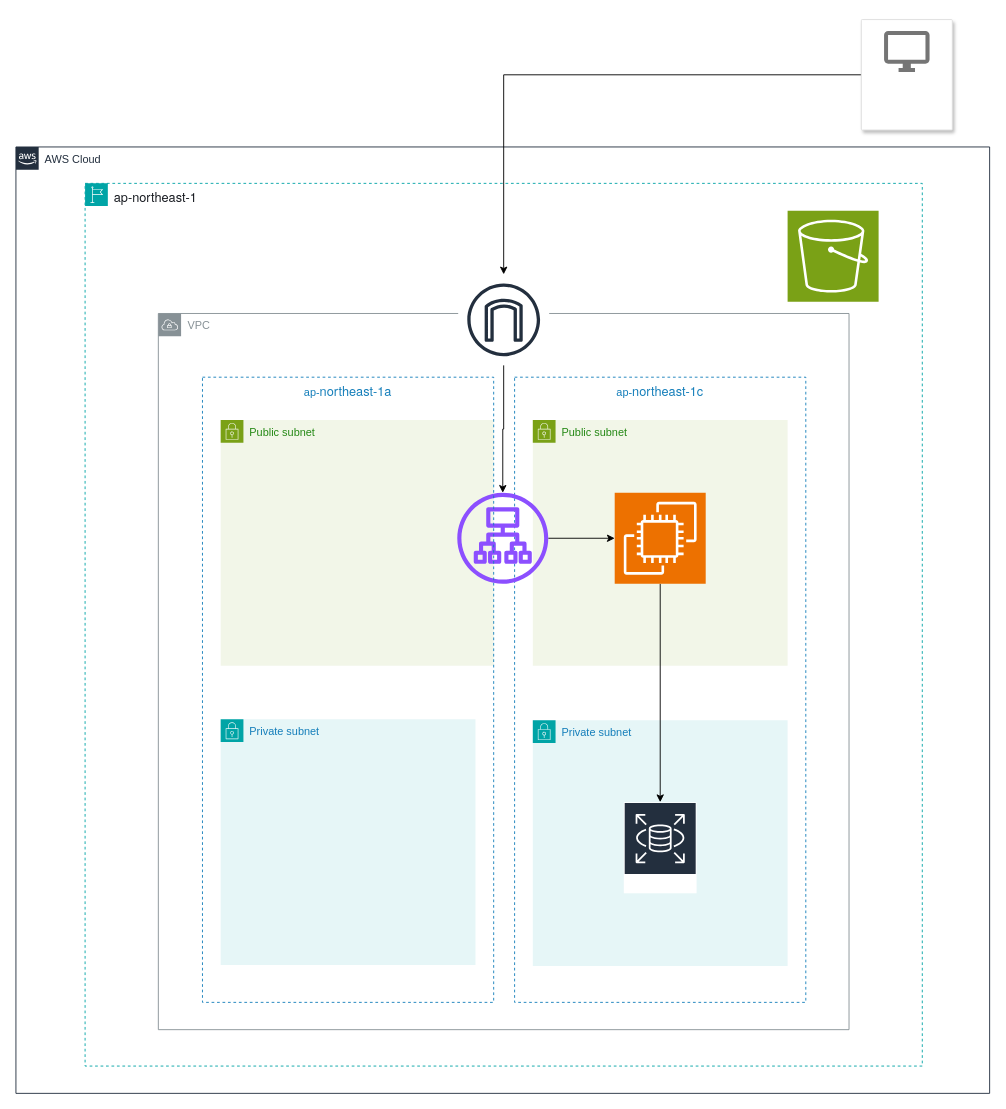
This 1006x1109 diagram has some shape labels left out. Here are the shapes that lost their labels. From the top down, the centre of each, then its label:
the point at 503,319: Internet gateway
the point at 660,847: Amazon RDS
